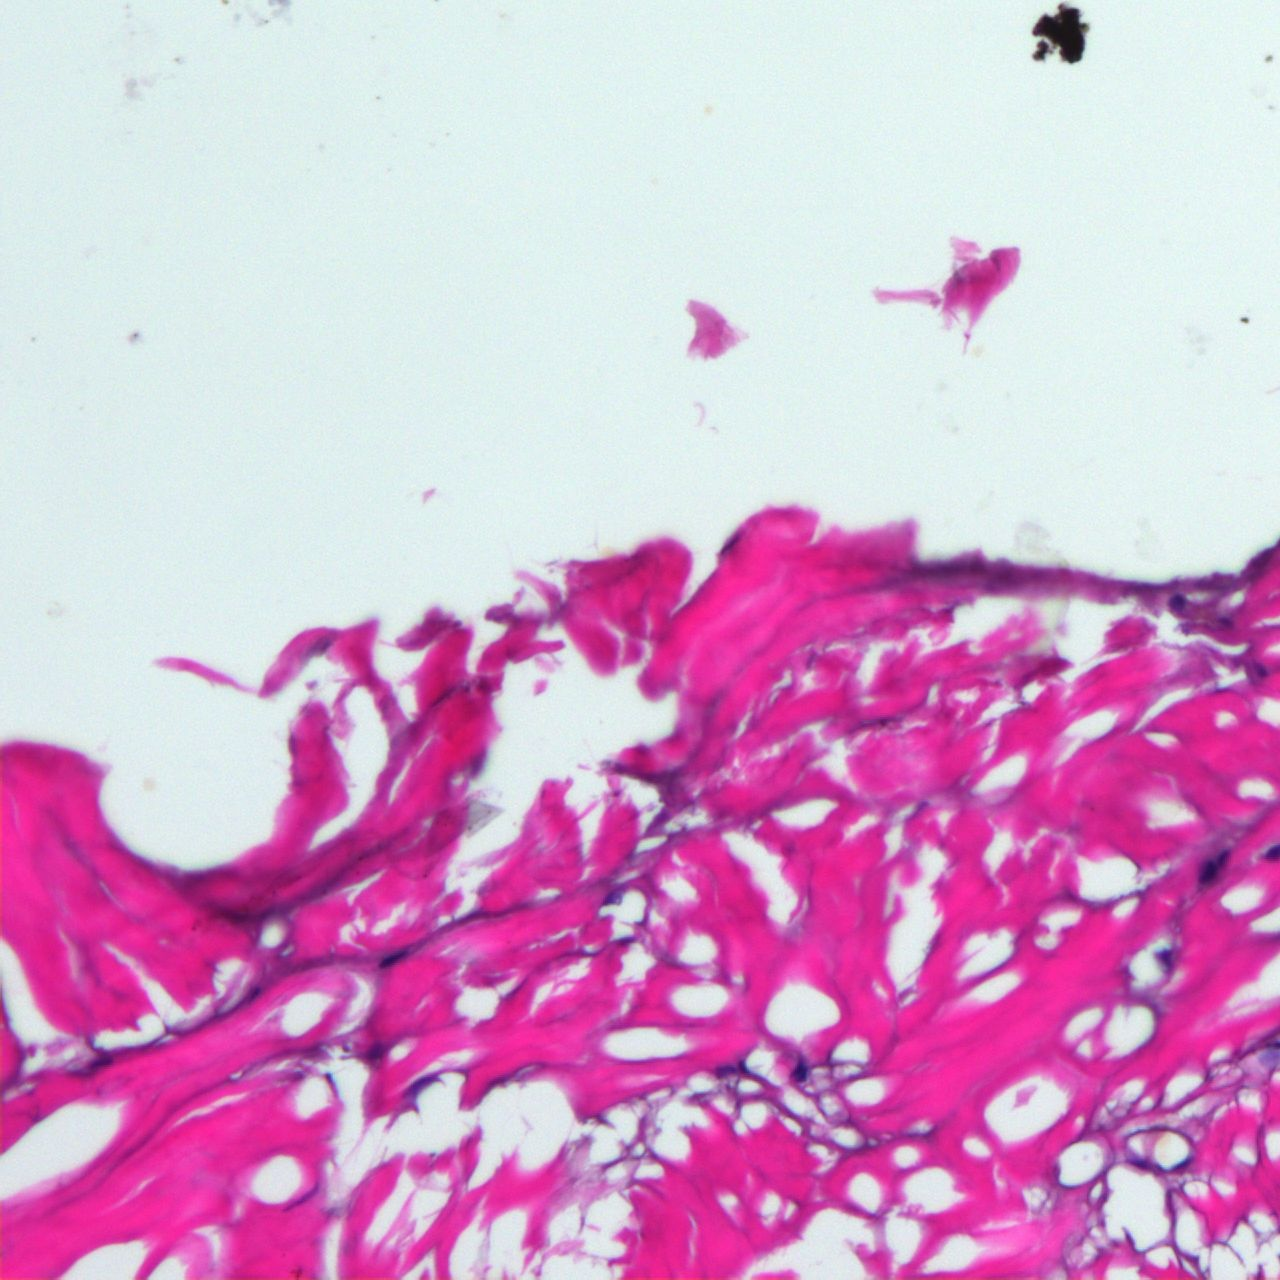dust: (141, 775, 154, 790), (128, 330, 141, 341), (651, 177, 659, 187), (704, 104, 713, 112)
nucleus-HE: (1192, 846, 1231, 886), (376, 948, 405, 970), (792, 1063, 807, 1082), (1168, 593, 1184, 609), (1156, 951, 1170, 969), (1255, 664, 1268, 678)
